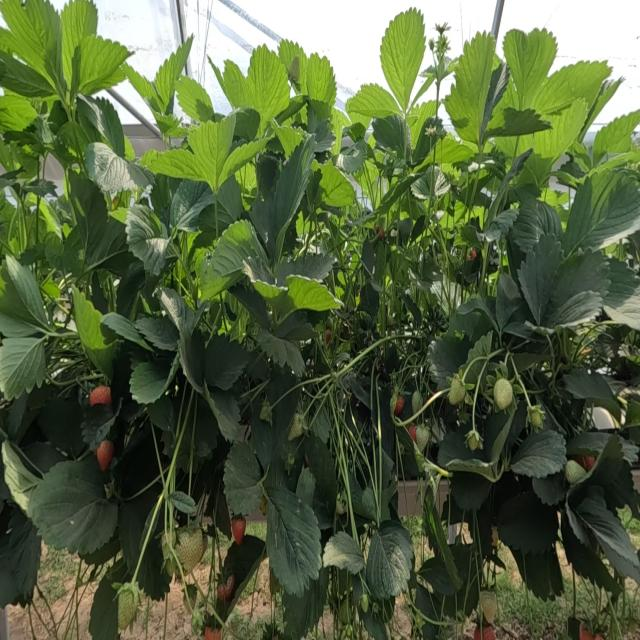Flowers: (435, 21, 450, 35)
Leaves: (29, 458, 117, 553), (251, 141, 314, 258), (123, 37, 192, 140), (566, 486, 639, 582), (203, 535, 265, 639), (563, 172, 639, 255), (0, 0, 62, 98), (266, 487, 321, 595), (447, 31, 495, 140), (416, 541, 482, 619), (546, 251, 610, 326), (561, 514, 619, 594), (569, 110, 640, 174), (380, 8, 424, 111), (503, 29, 556, 109), (208, 220, 271, 287), (0, 505, 41, 607), (533, 60, 611, 113), (495, 490, 559, 554), (71, 289, 115, 379), (69, 173, 109, 269), (247, 44, 289, 135), (118, 488, 162, 574), (366, 519, 413, 599), (519, 234, 561, 323), (586, 436, 636, 510), (258, 311, 314, 375), (423, 489, 458, 590), (114, 423, 159, 500), (196, 175, 244, 247), (188, 116, 235, 189), (73, 36, 130, 96), (1, 326, 47, 399), (2, 255, 47, 329), (119, 488, 157, 575), (533, 100, 587, 161), (282, 569, 329, 639), (488, 149, 532, 222), (510, 193, 563, 252), (154, 36, 193, 112), (126, 205, 168, 275), (511, 545, 563, 601), (224, 441, 263, 515), (267, 371, 302, 453), (93, 207, 134, 277), (61, 1, 97, 78), (38, 396, 84, 456), (137, 516, 170, 599), (1, 441, 39, 513), (85, 143, 137, 195), (510, 430, 566, 478), (180, 398, 218, 468), (0, 51, 56, 98), (77, 100, 123, 157), (564, 368, 619, 415), (204, 335, 250, 390), (593, 110, 639, 164), (307, 435, 338, 515), (537, 290, 602, 328), (603, 262, 639, 329), (428, 334, 469, 388), (130, 356, 176, 403), (169, 180, 214, 228), (257, 330, 304, 375), (265, 436, 303, 491), (438, 429, 488, 470), (150, 148, 207, 183), (89, 574, 119, 639), (448, 301, 491, 346), (485, 472, 522, 524), (378, 171, 421, 215), (347, 85, 402, 119), (159, 289, 197, 338), (485, 108, 548, 137), (221, 138, 265, 179), (286, 277, 339, 311), (176, 75, 214, 122), (206, 387, 239, 441), (304, 52, 335, 109), (323, 532, 363, 575), (117, 258, 145, 318), (319, 160, 354, 207), (450, 472, 492, 511), (135, 313, 178, 351), (424, 134, 476, 165), (60, 122, 95, 168), (150, 174, 181, 224), (373, 115, 409, 158), (0, 90, 37, 131), (283, 253, 335, 282), (223, 60, 254, 108), (81, 405, 114, 450), (467, 503, 493, 559), (419, 556, 456, 595), (463, 333, 491, 384), (181, 331, 204, 391), (496, 274, 522, 327), (411, 166, 450, 200), (408, 100, 435, 148), (416, 585, 440, 639), (45, 239, 82, 274), (101, 313, 144, 343), (483, 205, 519, 240), (409, 253, 442, 291), (251, 419, 276, 469), (24, 443, 64, 474), (457, 297, 496, 326), (380, 388, 395, 459), (566, 431, 609, 455), (272, 125, 303, 158), (7, 391, 28, 439), (532, 475, 565, 505), (336, 140, 366, 173), (147, 398, 175, 433), (279, 40, 302, 82), (39, 198, 62, 240), (360, 607, 388, 639), (307, 120, 335, 152), (332, 108, 350, 152), (441, 492, 464, 524), (349, 373, 370, 408), (360, 281, 379, 318), (170, 491, 195, 514), (24, 180, 56, 197), (375, 241, 386, 287), (361, 239, 375, 274), (397, 218, 412, 247), (0, 169, 21, 188), (411, 215, 426, 241)
Strawberries: (176, 528, 205, 574), (118, 585, 139, 631), (163, 520, 179, 575), (478, 590, 497, 624), (493, 379, 512, 411), (564, 460, 586, 486), (96, 440, 113, 470), (182, 582, 198, 613), (448, 376, 464, 404), (217, 576, 234, 600), (90, 386, 111, 404), (416, 425, 430, 451), (231, 519, 246, 543), (288, 414, 302, 439), (473, 625, 495, 639), (529, 407, 543, 428), (576, 621, 592, 639), (336, 489, 347, 514), (467, 429, 480, 450), (260, 399, 271, 422), (204, 627, 221, 639), (393, 395, 403, 415), (324, 329, 331, 343), (468, 249, 476, 260), (378, 228, 385, 239)
